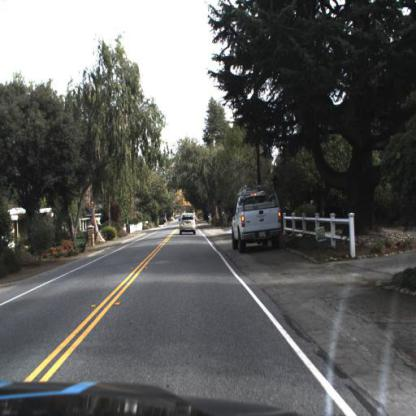car: (230, 180, 284, 253), (179, 208, 199, 237)
